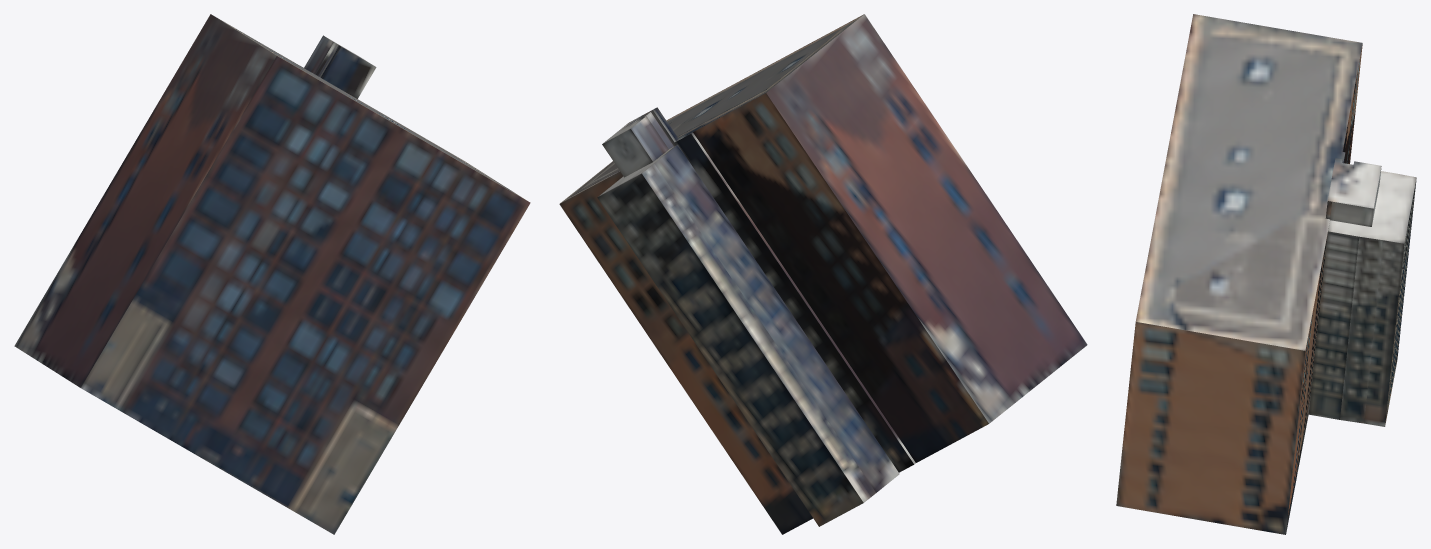
3 renders of one model, left to right at view 1: azimuth 30°, elevation 25°; view 2: azimuth 150°, elevation 25°; view 3: azimuth 270°, elevation 25°, orthographic. The views are drawn at different scales.
Visible parts, largest first — view 1: BAG_0599100000752501 (×3); view 2: BAG_0599100000752501 (×3); view 3: BAG_0599100000752501 (×3).
Boxes of the visible parts, x1,y1,x2,y2 form: BAG_0599100000752501 (×3): (14,14,530,534); BAG_0599100000752501 (×3): (559,14,1087,534); BAG_0599100000752501 (×3): (1116,14,1416,534).
Size of the model in its own units: 44.53 by 45.58 by 24.67.
Materials: 1 (1 with a texture image).
